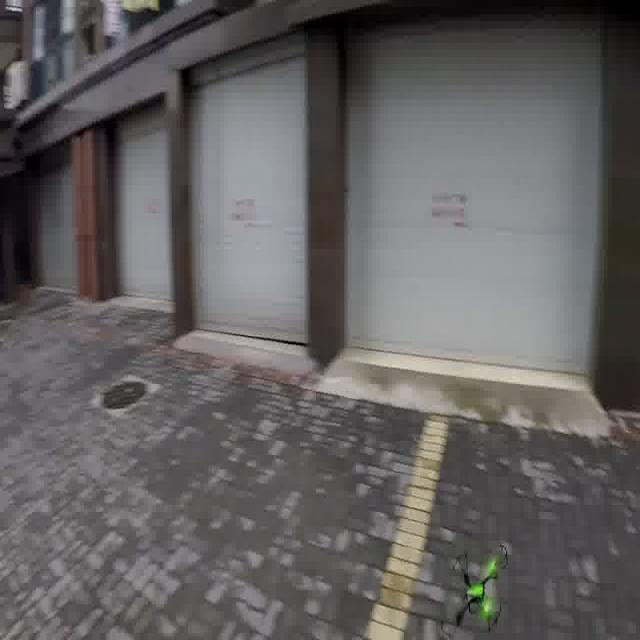drone: (437, 527, 519, 639)
